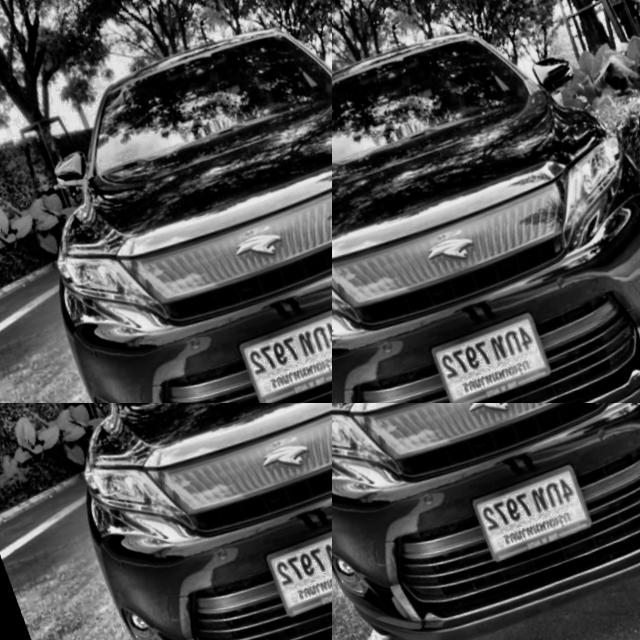license-plate: (456, 464, 589, 576)
